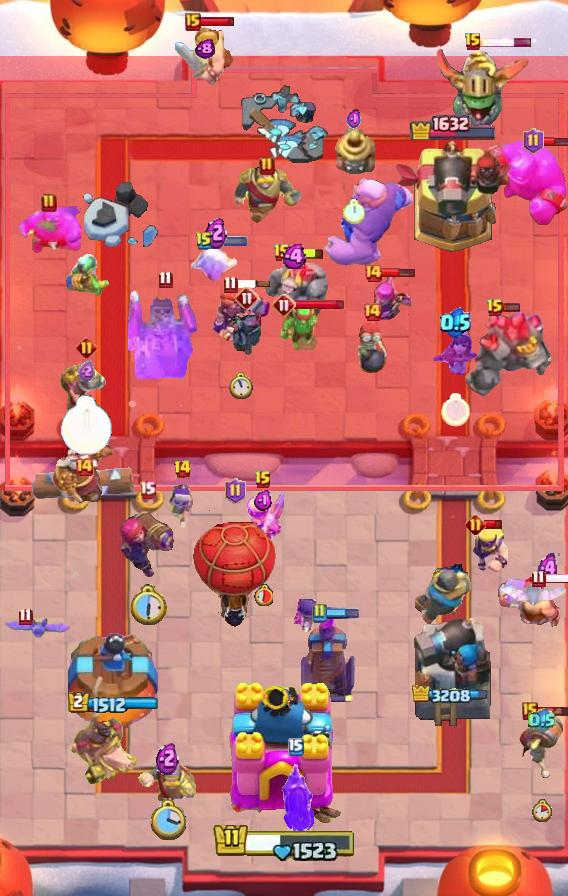archer-evolution: (363, 271, 415, 323)
bar: (294, 298, 345, 311), (480, 37, 533, 48), (289, 247, 325, 260), (324, 607, 360, 619), (381, 267, 416, 279), (199, 16, 236, 27), (536, 705, 568, 717), (211, 236, 249, 246), (235, 279, 271, 289), (544, 572, 568, 585), (542, 136, 568, 147), (484, 519, 503, 530), (502, 302, 521, 313)
bar-level: (272, 293, 296, 317), (235, 286, 259, 310), (225, 478, 246, 504), (523, 128, 544, 154), (465, 514, 486, 535), (76, 337, 97, 358), (74, 457, 94, 477), (362, 302, 382, 322), (363, 263, 383, 283), (173, 459, 192, 479), (254, 470, 272, 490), (486, 298, 504, 318), (273, 243, 291, 263), (195, 231, 213, 251), (464, 32, 482, 52), (139, 480, 156, 499), (311, 603, 327, 623), (41, 193, 57, 213), (259, 156, 275, 176), (288, 738, 304, 756), (522, 702, 538, 720), (185, 13, 201, 31), (18, 607, 33, 626), (531, 569, 546, 588), (223, 275, 238, 294), (158, 270, 173, 289)
barbarian-evolution: (464, 520, 514, 574), (243, 492, 284, 557)
bat-evolution: (498, 580, 568, 610), (0, 617, 72, 643)
bomber: (355, 318, 389, 374)
bomber-evolution: (278, 753, 314, 847)
cannoneer-tower: (392, 138, 514, 256), (410, 611, 496, 731)
clock: (60, 395, 113, 456), (128, 584, 167, 626), (149, 798, 186, 842), (441, 393, 470, 427), (229, 372, 253, 400), (343, 199, 365, 224), (532, 799, 552, 822), (254, 584, 273, 606)
elite-barbarian: (172, 22, 238, 86)
elixir: (440, 307, 471, 338), (156, 740, 179, 775), (205, 215, 227, 249), (537, 553, 560, 584), (528, 708, 556, 733), (282, 244, 309, 269), (195, 39, 215, 59), (254, 490, 273, 511), (78, 360, 95, 382), (347, 109, 361, 130)
elixir-golem-mid: (17, 205, 81, 255)
firecracker-evolution: (118, 502, 176, 580)
golemite: (261, 256, 329, 316)
ice-spirit-evolution: (191, 245, 241, 283)
king-tower: (222, 680, 346, 826)
king-tower-bar: (212, 819, 356, 861)
knight: (233, 166, 302, 223), (415, 564, 473, 625), (137, 758, 197, 803)
lumberjack: (498, 574, 568, 630)
miner: (59, 363, 113, 417)
mini-pekka: (231, 309, 264, 356)
princess: (430, 326, 480, 378)
queen-tower: (68, 633, 160, 731)
skeleton-evolution: (167, 484, 197, 530), (291, 599, 320, 635)
spear-goblin: (62, 253, 112, 297), (279, 302, 321, 350)
the-log: (31, 467, 138, 503)
tower-bar: (409, 112, 498, 140), (68, 691, 160, 715), (412, 685, 494, 707)
valkyrie-evolution: (210, 287, 272, 351)
wall-breaker: (518, 711, 566, 781)
zappy: (331, 129, 377, 175)
